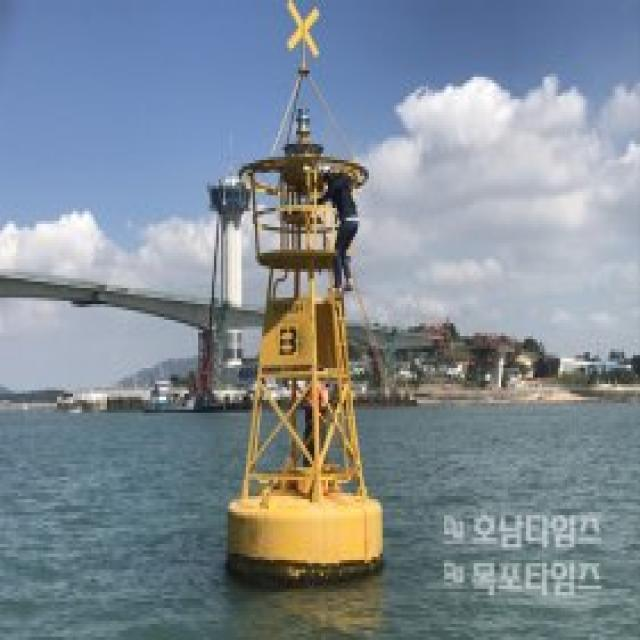marque: (212, 1, 400, 587)
